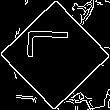L_E: (29, 39, 81, 71)
